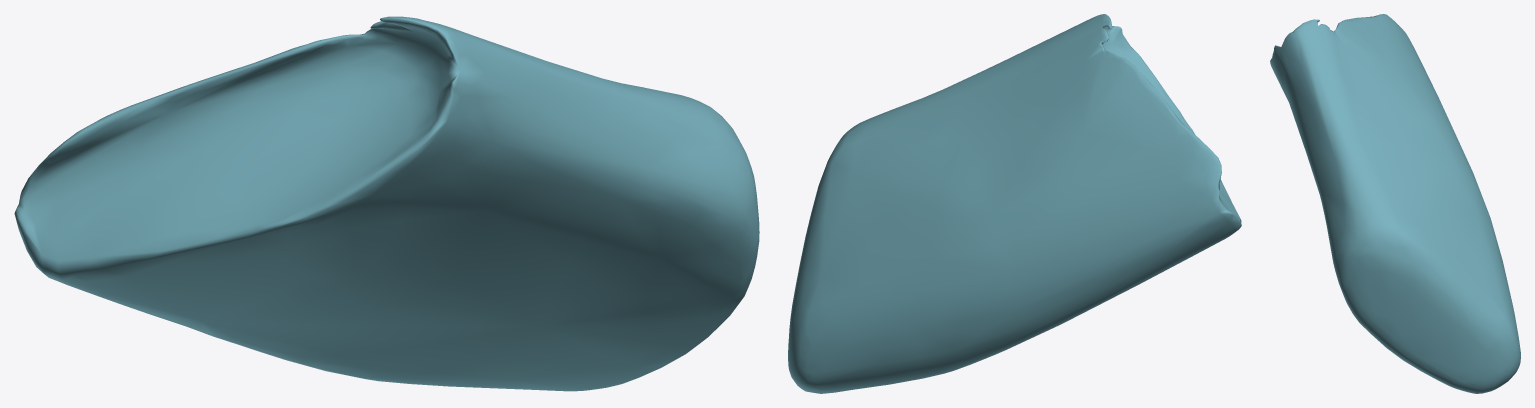
3 renders of one model, left to right at view 1: azimuth 30°, elevation 25°; view 2: azimuth 150°, elevation 25°; view 3: azimuth 270°, elevation 25°, orthographic. The views are drawn at different scales.
Parts seen in each view (by area): view 1: 右侧第一肋软骨; view 2: 右侧第一肋软骨; view 3: 右侧第一肋软骨.
Boxes of the visible parts, box(x1,y1,x2,y2) form: 右侧第一肋软骨: box(14, 16, 759, 391); 右侧第一肋软骨: box(788, 14, 1241, 393); 右侧第一肋软骨: box(1270, 14, 1520, 393).
Bounding box in the file's own units: 0.045 × 0.0355 × 0.0279.
